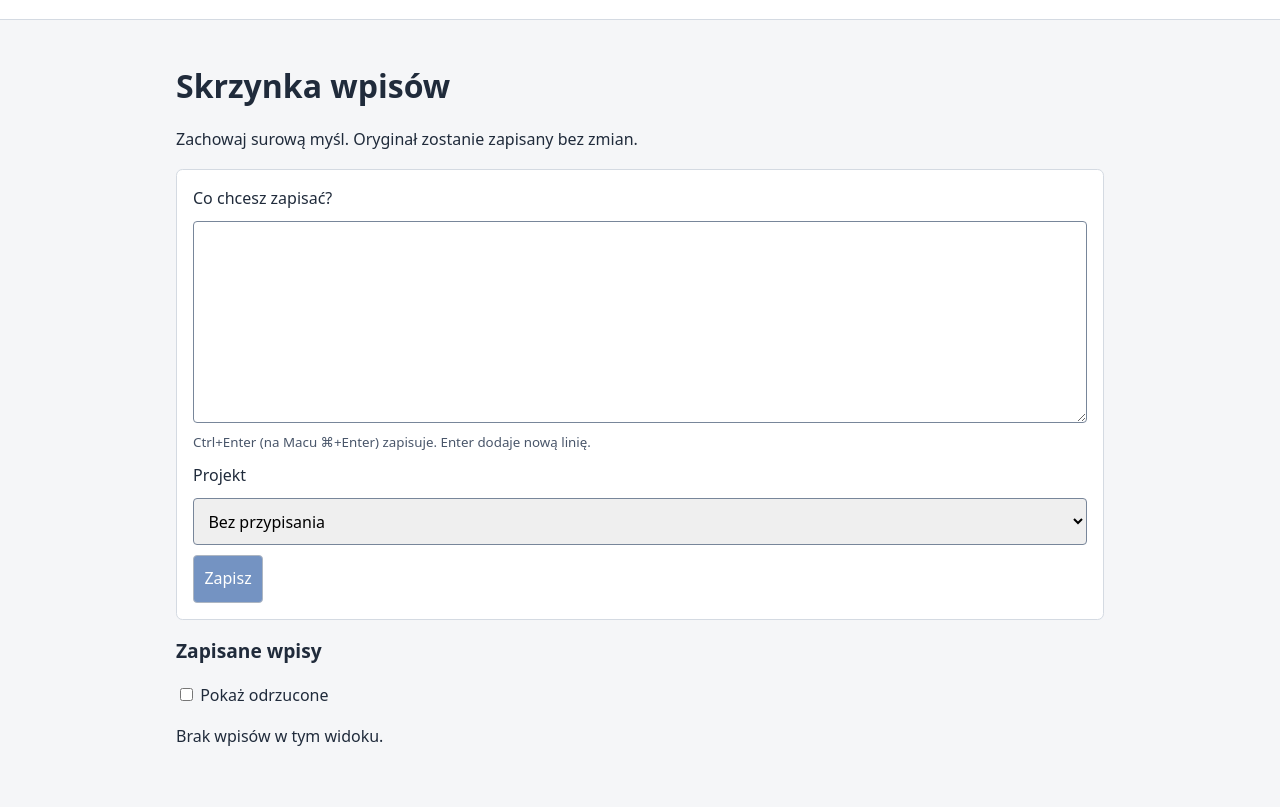
Test case: Szybki Inbox › odkłada analizę i odrzuca bez usuwania oryginału
Type "Luźna myśl" into the text box labelled "Co chcesz zapisać?" at (640, 322), box x1=193 y1=221 x2=1087 y2=423
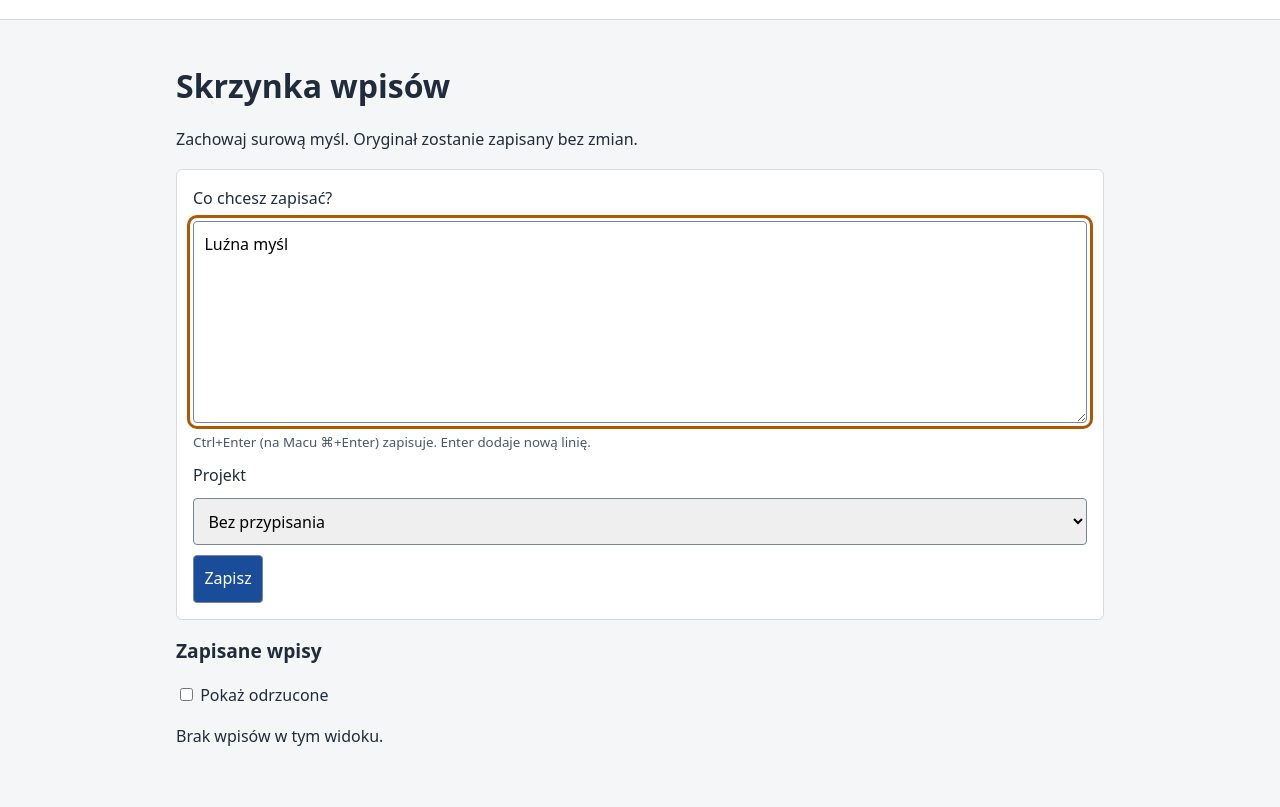
Click the button "Zapisz" at (228, 579), box x1=193 y1=555 x2=263 y2=603
(page scrolled)
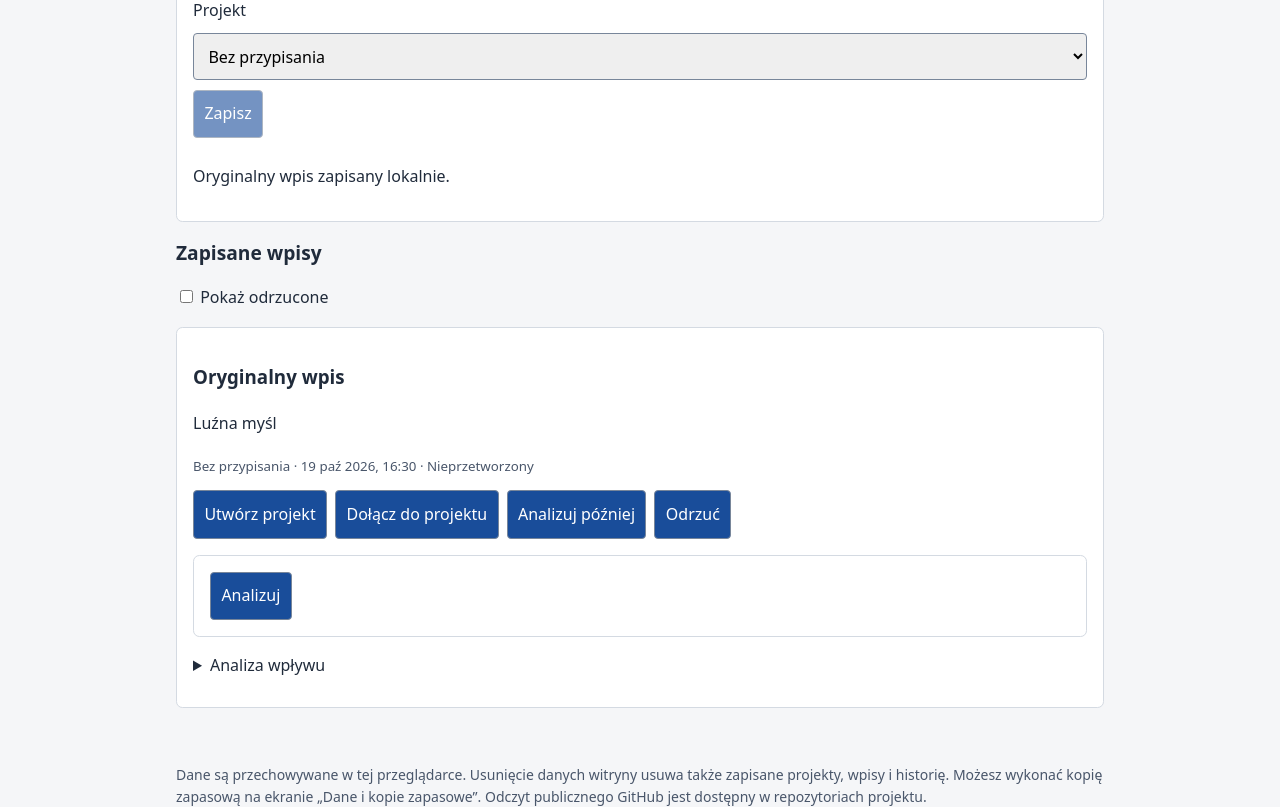
Click the button "Analizuj później" at (576, 514), box x1=506 y1=490 x2=646 y2=539
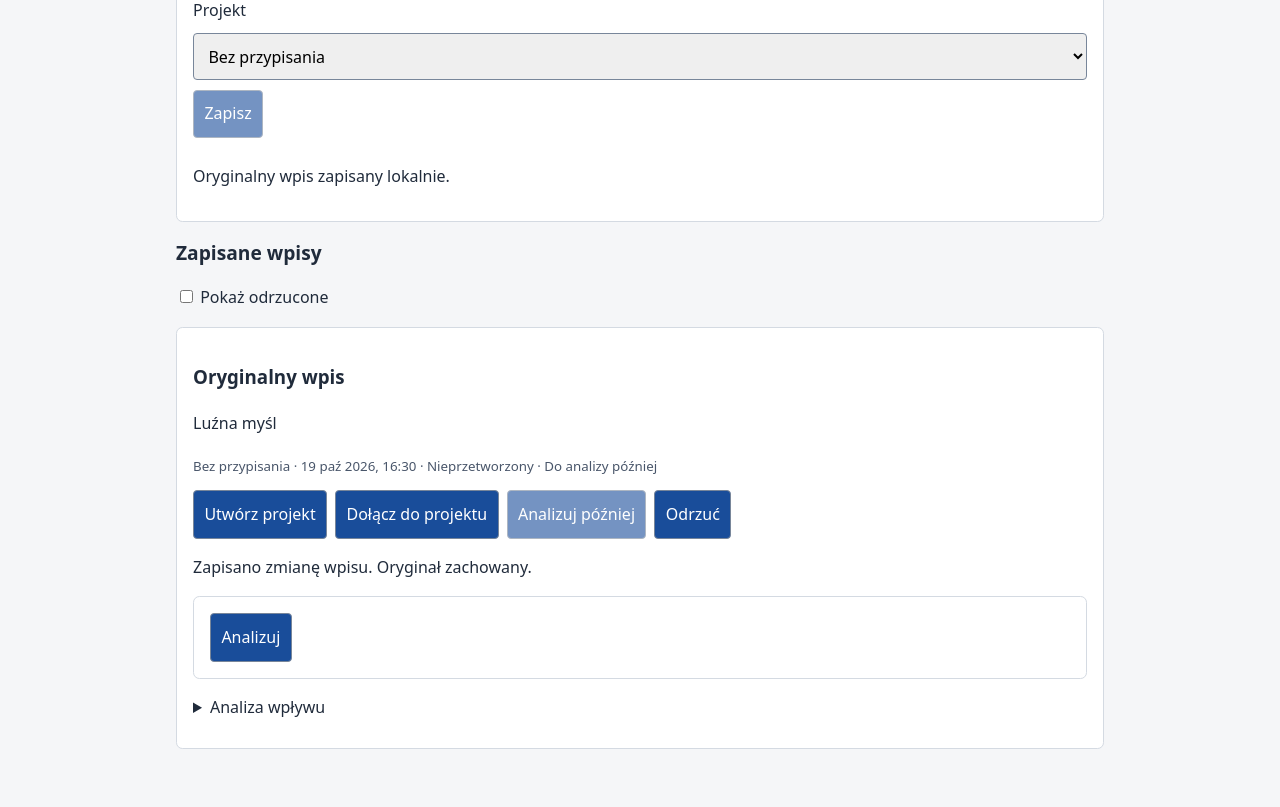
expect the text "Do analizy później" is shown: met, box x1=534 y1=457 x2=657 y2=475
Click the button "Odrzuć" at (693, 514), box x1=654 y1=490 x2=731 y2=539
(page scrolled)
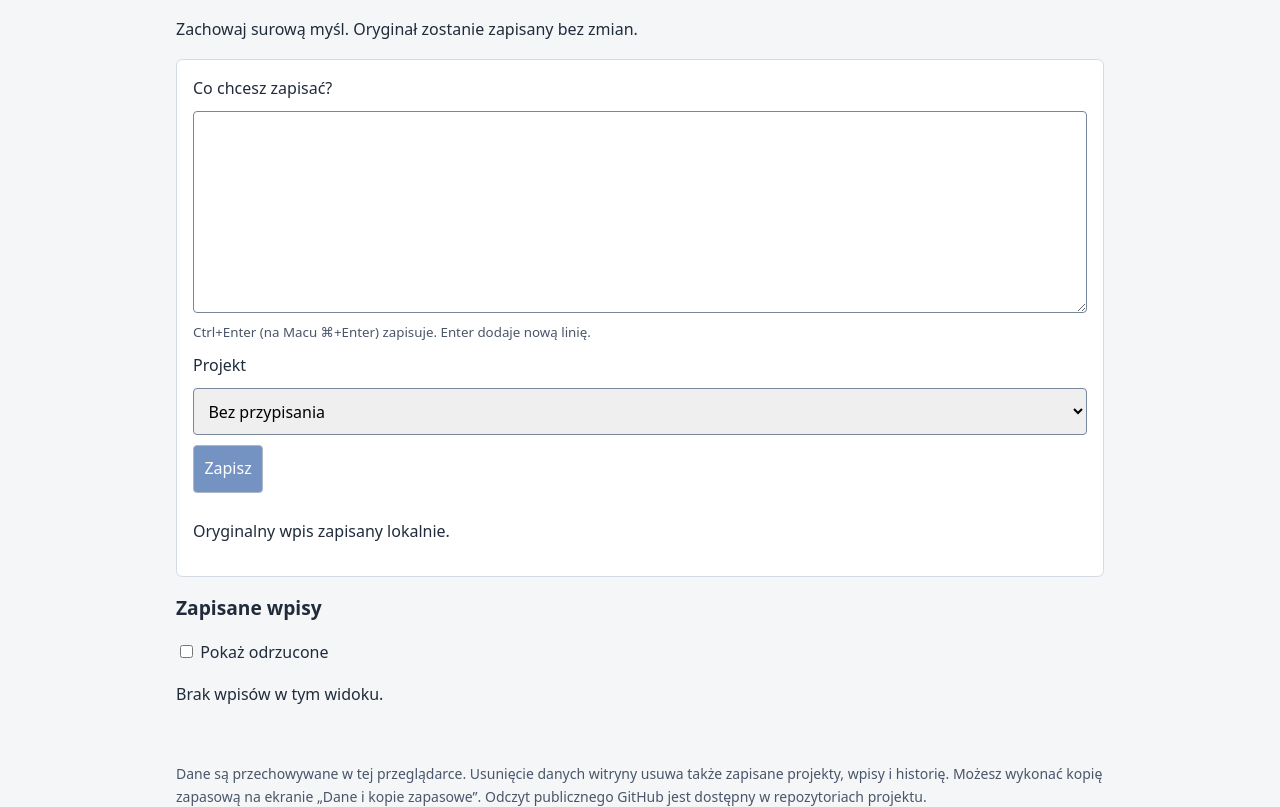
expect the text "Luźna myśl" is gone: met
Click the checkbox labelled "Pokaż odrzucone" at (186, 652), box x1=180 y1=645 x2=193 y2=658
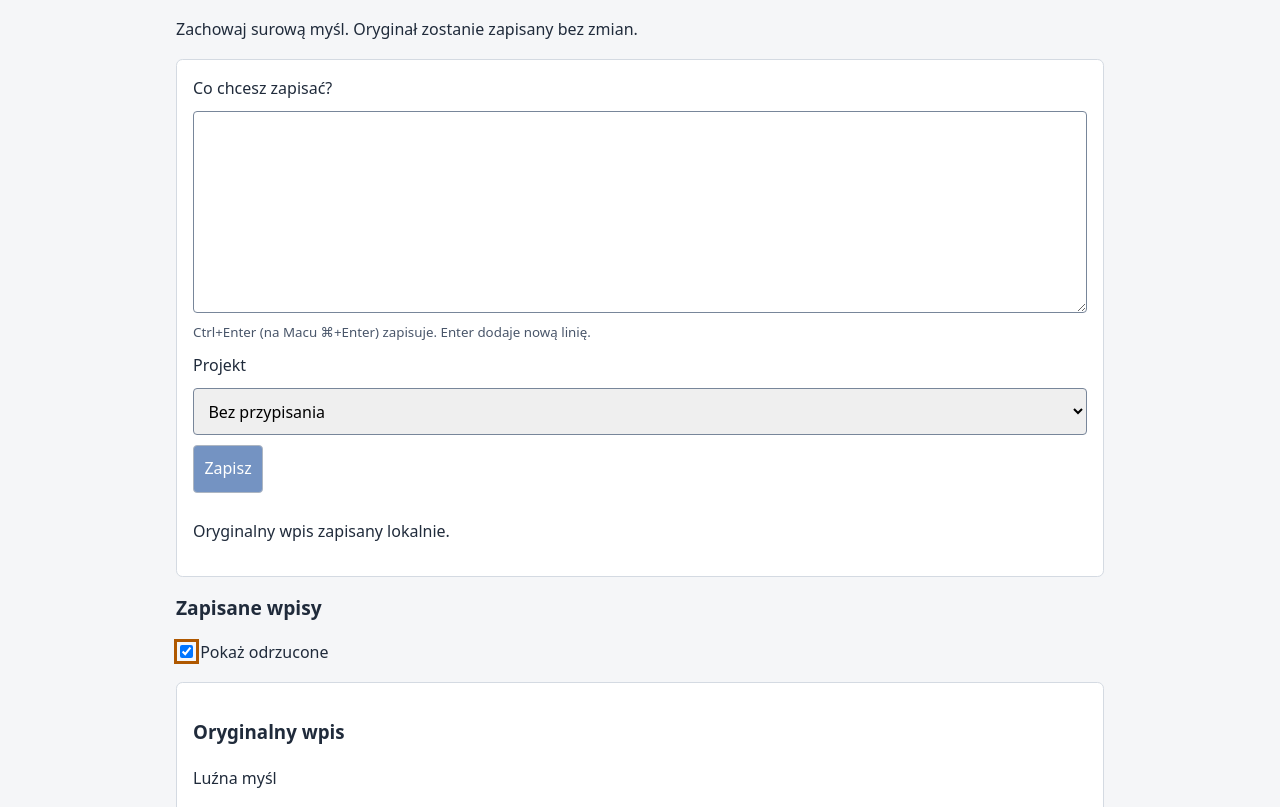
expect the text "Luźna myśl" is shown: met, box x1=193 y1=767 x2=277 y2=789
